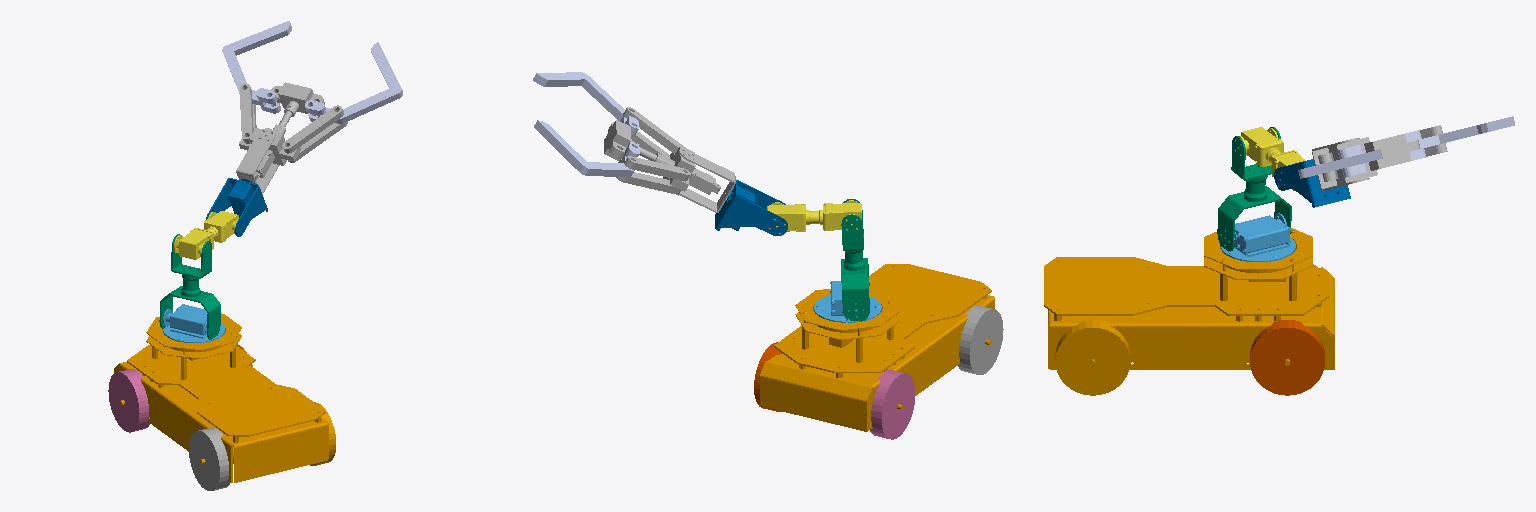
The robot description file, URDF, robot "robot_v2":
<?xml version="1.0"?>
<!-- URDF generated from models/robot_v2/model.sdf
     Notes:
     - Sensors and Gazebo plugins from the SDF are not represented in URDF (left as comments).
     - Mesh URIs kept as file://... as in the SDF.
-->
<robot name="robot_v2">

  <!-- base_link -->
  <link name="base_link">
    <inertial>
      <origin xyz="0 -0.15 0.01" rpy="0 0 0" />
      <mass value="3.1643396567672002" />
      <inertia ixx="0.01" ixy="0" ixz="0" iyy="0.005" iyz="0" izz="0.005" />
    </inertial>
    <visual>
      <origin xyz="0 0 0" rpy="0 0 0" />
      <geometry>
  <mesh filename="package://mam_eurobot_2026/models/robot_v2/meshes/base_link.STL" />
      </geometry>
    </visual>
    <collision>
      <origin xyz="0 0 0" rpy="0 0 0" />
      <geometry>
  <mesh filename="package://mam_eurobot_2026/models/robot_v2/meshes/base_link.STL" />
      </geometry>
    </collision>
  </link>

  <!-- link_1 -->
  <link name="link_1">
    <inertial>
      <origin xyz="0.00104293857582605 -0.0200716463587287 -0.000239310286706415" rpy="0 0 0" />
      <mass value="0.064021348009921195" />
      <inertia ixx="0.0002" ixy="0" ixz="0" iyy="0.0001" iyz="0" izz="0.0001" />
    </inertial>
    <visual>
      <origin xyz="0 0 0" rpy="0 0 0" />
      <geometry>
  <mesh filename="package://mam_eurobot_2026/models/robot_v2/meshes/link_1.STL" />
      </geometry>
    </visual>
    <collision>
      <origin xyz="0 0 0" rpy="0 0 0" />
      <geometry>
  <mesh filename="package://mam_eurobot_2026/models/robot_v2/meshes/link_1.STL" />
      </geometry>
    </collision>
  </link>

  <!-- link_2 -->
  <link name="link_2">
    <inertial>
      <origin xyz="-0.000603587791177973 -0.050271425729893 -0" rpy="0 0 0" />
      <mass value="0.19959080849265101" />
      <inertia ixx="0.001" ixy="0" ixz="0" iyy="0.0005" iyz="0" izz="0.0005" />
    </inertial>
    <visual>
      <origin xyz="0 0 0" rpy="0 0 0" />
      <geometry>
  <mesh filename="package://mam_eurobot_2026/models/robot_v2/meshes/link_2.STL" />
      </geometry>
    </visual>
    <collision>
      <origin xyz="0 0 0" rpy="0 0 0" />
      <geometry>
  <mesh filename="package://mam_eurobot_2026/models/robot_v2/meshes/link_2.STL" />
      </geometry>
    </collision>
  </link>

  <!-- link_3 -->
  <link name="link_3">
    <inertial>
      <origin xyz="-0.000682520892340457 0 -0.0438713507571973" rpy="0 0 0" />
      <mass value="0.115150609607431" />
      <inertia ixx="0.0005" ixy="0" ixz="0" iyy="0.0003" iyz="0" izz="0.0003" />
    </inertial>
    <visual>
      <origin xyz="0 0 0" rpy="0 0 0" />
      <geometry>
  <mesh filename="package://mam_eurobot_2026/models/robot_v2/meshes/link_3.STL" />
      </geometry>
    </visual>
    <collision>
      <origin xyz="0 0 0" rpy="0 0 0" />
      <geometry>
  <mesh filename="package://mam_eurobot_2026/models/robot_v2/meshes/link_3.STL" />
      </geometry>
    </collision>
  </link>

  <!-- link_4 -->
  <link name="link_4">
    <inertial>
      <origin xyz="-0.000603587790963866 0.0078169291051248 0.0420092089396764" rpy="0 0 0" />
      <mass value="0.11665330221327801" />
      <inertia ixx="0.0006" ixy="0" ixz="0" iyy="0.0004" iyz="0" izz="0.0004" />
    </inertial>
    <visual>
      <origin xyz="0 0 0" rpy="0 0 0" />
      <geometry>
  <mesh filename="package://mam_eurobot_2026/models/robot_v2/meshes/link_4.STL" />
      </geometry>
    </visual>
    <collision>
      <origin xyz="0 0 0" rpy="0 0 0" />
      <geometry>
  <mesh filename="package://mam_eurobot_2026/models/robot_v2/meshes/link_4.STL" />
      </geometry>
    </collision>
  </link>

  <!-- wheel links -->
  <link name="wheel_link_1">
    <inertial>
      <origin xyz="-0.000936230026474243 0.000294296502742687 -0.0253134741975136" rpy="0 0 0" />
      <mass value="0.13046603137643001" />
      <inertia ixx="0.00015" ixy="0" ixz="0" iyy="0.00015" iyz="0" izz="0.0003" />
    </inertial>
    <visual>
      <geometry>
        <cylinder radius="0.04" length="0.02" />
      </geometry>
    </visual>
    <collision>
      <geometry>
        <cylinder radius="0.04" length="0.02" />
      </geometry>
    </collision>
  </link>

  <link name="wheel_link_2">
    <inertial>
      <origin xyz="0.000978275320681482 0 -0.0253134741975717" rpy="0 0 0" />
      <mass value="0.13046603137681101" />
      <inertia ixx="0.00015" ixy="0" ixz="0" iyy="0.00015" iyz="0" izz="0.0003" />
    </inertial>
    <visual>
      <geometry>
        <cylinder radius="0.04" length="0.02" />
      </geometry>
    </visual>
    <collision>
      <geometry>
        <cylinder radius="0.04" length="0.02" />
      </geometry>
    </collision>
  </link>

  <link name="wheel_link_3">
    <inertial>
      <origin xyz="-0.000295654501900236 0.0009367782707207229 0.0253134741975857" rpy="0 0 0" />
      <mass value="0.13046603137693699" />
      <inertia ixx="0.00015" ixy="0" ixz="0" iyy="0.00015" iyz="0" izz="0.0003" />
    </inertial>
    <visual>
      <geometry>
        <cylinder radius="0.04" length="0.02" />
      </geometry>
    </visual>
    <collision>
      <geometry>
        <cylinder radius="0.04" length="0.02" />
      </geometry>
    </collision>
  </link>

  <link name="wheel_link_4">
    <inertial>
      <origin xyz="-0.000965094199165933 -0.00018075045527613 0.0253134741977022" rpy="0 0 0" />
      <mass value="0.13046603137788901" />
      <inertia ixx="0.00015" ixy="0" ixz="0" iyy="0.00015" iyz="0" izz="0.0003" />
    </inertial>
    <visual>
      <geometry>
        <cylinder radius="0.04" length="0.02" />
      </geometry>
    </visual>
    <collision>
      <geometry>
        <cylinder radius="0.04" length="0.02" />
      </geometry>
    </collision>
  </link>

  <!-- gripper placeholder link (included model in SDF) -->
  <!-- Begin gripper substructure (renamed for MoveIt/robot_state_publisher compatibility) -->
  <link name="gripper_base_link">
    <inertial>
      <origin xyz="1.20345416542393E-06 -7.46338198926353E-05 0.0402572142288835" rpy="0 0 0" />
      <mass value="0.118178990513371" />
      <inertia ixx="6.01287575012105E-05" ixy="1.85720765586351E-10" ixz="1.11828577359352E-09" iyy="7.70222497341493E-05" iyz="-8.26675381504617E-08" izz="4.67283990275469E-05" />
    </inertial>
    <visual>
      <origin xyz="0 0 0" rpy="0 0 0" />
      <geometry>
  <mesh filename="package://mam_eurobot_2026/models/gripper/meshes/base_link.STL" />
      </geometry>
      <material name="">
        <color rgba="0.752941176470588 0.752941176470588 0.752941176470588 1" />
      </material>
    </visual>
    <collision>
      <origin xyz="0 0 0" rpy="0 0 0" />
      <geometry>
  <mesh filename="package://mam_eurobot_2026/models/gripper/meshes/base_link.STL" />
      </geometry>
    </collision>
  </link>
  <link name="gripper_shaft_1_link">
    <inertial>
      <origin xyz="-0.0185483490157523 0.0354395083034431 2.99498299918544E-16" rpy="0 0 0" />
      <mass value="0.02252603418623" />
      <inertia ixx="1.12936526709408E-05" ixy="5.62463338808149E-06" ixz="-8.77212019586647E-22" iyy="3.49073863338112E-06" iyz="1.54353420695704E-21" izz="1.44455622067707E-05" />
    </inertial>
    <visual>
      <origin xyz="0 0 0" rpy="0 0 0" />
      <geometry>
  <mesh filename="package://mam_eurobot_2026/models/gripper/meshes/shaft_1_link.STL" />
      </geometry>
      <material name="">
        <color rgba="0.752941176470588 0.752941176470588 0.752941176470588 1" />
      </material>
    </visual>
    <collision>
      <origin xyz="0 0 0" rpy="0 0 0" />
      <geometry>
  <mesh filename="package://mam_eurobot_2026/models/gripper/meshes/shaft_1_link.STL" />
      </geometry>
    </collision>
  </link>
  <joint name="gripper_shaft_1_joint" type="revolute">
    <origin xyz="0 -0.03 0.061858" rpy="1.5708 -0.041167 1.5708" />
    <parent link="gripper_base_link" />
    <child link="gripper_shaft_1_link" />
    <axis xyz="0 0 1" />
    <limit lower="0" upper="0" effort="0" velocity="0" />
  </joint>
  <link name="gripper_shaft_2_link">
    <inertial>
      <origin xyz="0.0185483490157517 0.0354395083034417 2.92425178921861E-16" rpy="0 0 0" />
      <mass value="0.02252603418623" />
      <inertia ixx="1.12936526709407E-05" ixy="-5.62463338808151E-06" ixz="-4.80175514429532E-22" iyy="3.49073863338117E-06" iyz="-1.06899453632766E-21" izz="1.44455622067707E-05" />
    </inertial>
    <visual>
      <origin xyz="0 0 0" rpy="0 0 0" />
      <geometry>
  <mesh filename="package://mam_eurobot_2026/models/gripper/meshes/shaft_2_link.STL" />
      </geometry>
      <material name="">
        <color rgba="0.752941176470588 0.752941176470588 0.752941176470588 1" />
      </material>
    </visual>
    <collision>
      <origin xyz="0 0 0" rpy="0 0 0" />
      <geometry>
  <mesh filename="package://mam_eurobot_2026/models/gripper/meshes/shaft_2_link.STL" />
      </geometry>
    </collision>
  </link>
  <joint name="gripper_shaft_2_joint" type="revolute">
    <origin xyz="0 0.03 0.061858" rpy="1.5708 0.041167 1.5708" />
    <parent link="gripper_base_link" />
    <child link="gripper_shaft_2_link" />
    <axis xyz="0 0 1" />
    <limit lower="0" upper="0" effort="0" velocity="0" />
  </joint>
  <link name="gripper_actuactor_link">
    <inertial>
      <origin xyz="1.85604995391415E-08 0.0293282231493077 -3.84649389623577E-11" rpy="0 0 0" />
      <mass value="0.0512156078297464" />
      <inertia ixx="6.40991174505963E-06" ixy="-1.81917662188716E-11" ixz="8.72990322207868E-14" iyy="9.65773691375466E-06" iyz="-3.89986107585078E-13" izz="1.21277508668611E-05" />
    </inertial>
    <visual>
      <origin xyz="0 0 0" rpy="0 0 0" />
      <geometry>
  <mesh filename="package://mam_eurobot_2026/models/gripper/meshes/actuactor_link.STL" />
      </geometry>
      <material name="">
        <color rgba="0.752941176470588 0.752941176470588 0.752941176470588 1" />
      </material>
    </visual>
    <collision>
      <origin xyz="0 0 0" rpy="0 0 0" />
      <geometry>
  <mesh filename="package://mam_eurobot_2026/models/gripper/meshes/actuactor_link.STL" />
      </geometry>
    </collision>
  </link>
  <joint name="gripper_actuactor_joint" type="fixed">
    <origin xyz="0 0 0.084786" rpy="1.5708 0 -1.5708" />
    <parent link="gripper_base_link" />
    <child link="gripper_actuactor_link" />
  </joint>
  <link name="gripper_arm_1_link">
    <inertial>
      <origin xyz="0.0521330633718729 -0.0399533991816216 0.005" rpy="0 0 0" />
      <mass value="0.0329177629039053" />
      <inertia ixx="5.16014760985873E-05" ixy="2.06515660036376E-05" ixz="8.54318905572456E-22" iyy="2.93271923454908E-05" iyz="-7.92111556290631E-22" izz="7.91570014890072E-05" />
    </inertial>
    <visual>
      <origin xyz="0 0 0" rpy="0 0 0" />
      <geometry>
  <mesh filename="package://mam_eurobot_2026/models/gripper/meshes/arm_1_link.STL" />
      </geometry>
      <material name="">
        <color rgba="0.792156862745098 0.819607843137255 0.933333333333333 1" />
      </material>
    </visual>
    <collision>
      <origin xyz="0 0 0" rpy="0 0 0" />
      <geometry>
  <mesh filename="package://mam_eurobot_2026/models/gripper/meshes/arm_1_link.STL" />
      </geometry>
    </collision>
  </link>
  <joint name="gripper_arm_1_joint" type="revolute">
    <origin xyz="0.028953 0.046145 0.005" rpy="-3.1416 0 0.029755" />
    <parent link="gripper_actuactor_link" />
    <child link="gripper_arm_1_link" />
    <axis xyz="0 0 1" />
    <!-- Updated limits and dynamics from model.sdf -->
    <limit lower="-3.1415" upper="3.1415" effort="100" velocity="5" />
    <dynamics damping="0.1" friction="0.01" />
  </joint>
  <link name="gripper_arm_2_link">
    <inertial>
      <origin xyz="0.0521330633718464 -0.0399533991816367 0.005" rpy="0 0 0" />
      <mass value="0.0329177629039053" />
      <inertia ixx="5.16014760985873E-05" ixy="2.06515660036377E-05" ixz="-2.08366170933793E-21" iyy="2.93271923454908E-05" iyz="5.8724305266389E-21" izz="7.91570014890072E-05" />
    </inertial>
    <visual>
      <origin xyz="0 0 0" rpy="0 0 0" />
      <geometry>
  <mesh filename="package://mam_eurobot_2026/models/gripper/meshes/arm_2_link.STL" />
      </geometry>
      <material name="">
        <color rgba="0.792156862745098 0.819607843137255 0.933333333333333 1" />
      </material>
    </visual>
    <collision>
      <origin xyz="0 0 0" rpy="0 0 0" />
      <geometry>
  <mesh filename="package://mam_eurobot_2026/models/gripper/meshes/arm_2_link.STL" />
      </geometry>
    </collision>
  </link>
  <joint name="gripper_arm_2_joint" type="revolute">
    <origin xyz="-0.028953 0.046145 -0.005" rpy="0 0 3.1118" />
    <parent link="gripper_actuactor_link" />
    <child link="gripper_arm_2_link" />
    <axis xyz="0 0 1" />
    <!-- Updated limits and dynamics from model.sdf; mimic removed so this joint is independent -->
    <limit lower="-3.1415" upper="3.1415" effort="100" velocity="5" />
    <dynamics damping="0.1" friction="0.01" />
  </joint>
  <!-- End gripper substructure -->

  <!-- joints -->
  <joint name="joint_1" type="revolute">
    <origin xyz="0 -0.081313 0.08128" rpy="-1.5708 0 2.1036" />
    <parent link="base_link" />
    <child link="link_1" />
    <axis xyz="0 1 0" />
    <limit lower="-3.1415" upper="3.1415" effort="100" velocity="5.0" />
    <dynamics damping="0.1" friction="0.01" />
  </joint>

  <joint name="joint_2" type="revolute">
    <origin xyz="0 -0.024358 0.009871" rpy="3.093 0 3.141585307179587" />
    <parent link="link_1" />
    <child link="link_2" />
    <axis xyz="1 0 0" />
    <limit lower="-3.1415" upper="3.1415" effort="100" velocity="5.0" />
    <dynamics damping="0.1" friction="0.01" />
  </joint>

  <joint name="joint_3" type="revolute">
    <origin xyz="0 -0.10532 0" rpy="-3.1187 0 0" />
    <parent link="link_2" />
    <child link="link_3" />
    <axis xyz="1 0 0" />
    <limit lower="-3.1415" upper="3.1415" effort="100" velocity="5.0" />
    <dynamics damping="0.1" friction="0.01" />
  </joint>

  <joint name="joint_4" type="revolute">
    <origin xyz="0 0 -0.087743" rpy="-2.6186 0 0" />
    <parent link="link_3" />
    <child link="link_4" />
    <axis xyz="1 0 0" />
    <limit lower="-3.1415" upper="3.1415" effort="100" velocity="5.0" />
    <dynamics damping="0.1" friction="0.01" />
  </joint>

  <!-- joint_5 connects to gripper include in SDF -->
  <joint name="joint_5" type="revolute">
    <origin xyz="0 0 0.069" rpy="0 0 1.571" />
    <parent link="link_4" />
    <child link="gripper_base_link" />
    <axis xyz="0 0 1" />
    <limit lower="-3.1415" upper="3.1415" effort="100" velocity="5.0" />
    <dynamics damping="0.1" friction="0.01" />
  </joint>

  <!-- wheel joints -->
  <joint name="wheel_joint_1" type="revolute">
    <origin xyz="0.0765 -0.0505 -0.0032237" rpy="1.5708 -1.179 -1.5708" />
    <parent link="base_link" />
    <child link="wheel_link_1" />
    <axis xyz="0 0 1" />
    <limit lower="-1.79769e+308" upper="1.79769e+308" effort="100" velocity="5.0" />
  </joint>

  <joint name="wheel_joint_2" type="revolute">
    <origin xyz="-0.0765 -0.0505 -0.0032237" rpy="1.5708 1.179 1.5708" />
    <parent link="base_link" />
    <child link="wheel_link_2" />
    <axis xyz="0 0 1" />
    <limit lower="-1.79769e+308" upper="1.79769e+308" effort="100" velocity="5.0" />
  </joint>

  <joint name="wheel_joint_3" type="revolute">
    <origin xyz="-0.0765 -0.25731 -0.0032237" rpy="1.5708 -1.179 -1.5708" />
    <parent link="base_link" />
    <child link="wheel_link_3" />
    <axis xyz="0 0 1" />
    <limit lower="-1.79769e+308" upper="1.79769e+308" effort="100" velocity="5.0" />
  </joint>

  <joint name="wheel_joint_4" type="revolute">
    <origin xyz="0.0765 -0.25731 -0.0032237" rpy="1.5708 1.179 1.5708" />
    <parent link="base_link" />
    <child link="wheel_link_4" />
    <axis xyz="0 0 1" />
    <limit lower="-1.79769e+308" upper="1.79769e+308" effort="100" velocity="5.0" />
  </joint>

  <!-- Note: SDF-only sensors and plugins omitted. If you need Gazebo/ignition plugins, keep them in a companion SDF file. -->

</robot>

--- What the picture shows (computed from the rendered views, not written in the file) ---
Views: 3 orthographic renders of the robot side by side, from view 1: azimuth 30°, elevation 25°; view 2: azimuth 150°, elevation 25°; view 3: azimuth 270°, elevation 25°.
Robot: robot_v2 — 15 links, 14 joints (13 revolute, 1 fixed); root link base_link; default pose: all joints at 0.
Links seen in each view (by area): view 1: base_link, gripper_base_link, link_2, wheel_link_2, wheel_link_3, gripper_arm_2_link, link_4, gripper_arm_1_link, link_3, link_1, gripper_shaft_1_link, gripper_actuactor_link (+1 smaller); view 2: base_link, link_2, wheel_link_2, wheel_link_3, link_4, gripper_base_link, link_3, gripper_arm_2_link, gripper_arm_1_link, gripper_shaft_2_link, link_1, gripper_shaft_1_link (+1 smaller); view 3: base_link, wheel_link_4, wheel_link_1, link_2, link_1, link_4, link_3, gripper_arm_1_link, gripper_arm_2_link, gripper_actuactor_link, gripper_base_link.
Boxes of the visible links, x1=… form: base_link: x1=114, y1=313, x2=328, y2=482; gripper_base_link: x1=236, y1=124, x2=300, y2=194; link_2: x1=159, y1=234, x2=220, y2=339; wheel_link_2: x1=108, y1=369, x2=149, y2=432; wheel_link_3: x1=189, y1=428, x2=230, y2=490; gripper_arm_2_link: x1=222, y1=21, x2=291, y2=113; link_4: x1=206, y1=178, x2=267, y2=236; gripper_arm_1_link: x1=305, y1=42, x2=402, y2=123; link_3: x1=174, y1=211, x2=238, y2=259; link_1: x1=163, y1=304, x2=224, y2=342; gripper_shaft_1_link: x1=282, y1=105, x2=347, y2=162; gripper_actuactor_link: x1=271, y1=82, x2=324, y2=126; base_link: x1=760, y1=264, x2=994, y2=431; link_2: x1=841, y1=199, x2=869, y2=321; wheel_link_2: x1=870, y1=370, x2=914, y2=439; wheel_link_3: x1=958, y1=305, x2=1003, y2=374; link_4: x1=715, y1=180, x2=787, y2=235; gripper_base_link: x1=654, y1=146, x2=735, y2=212; link_3: x1=767, y1=200, x2=861, y2=233; gripper_arm_2_link: x1=534, y1=120, x2=639, y2=176; gripper_arm_1_link: x1=533, y1=72, x2=639, y2=135; gripper_shaft_2_link: x1=616, y1=156, x2=690, y2=194; link_1: x1=814, y1=281, x2=881, y2=322; gripper_shaft_1_link: x1=623, y1=107, x2=685, y2=158; base_link: x1=1044, y1=223, x2=1334, y2=369; wheel_link_4: x1=1055, y1=320, x2=1130, y2=395; wheel_link_1: x1=1250, y1=320, x2=1324, y2=395; link_2: x1=1217, y1=127, x2=1291, y2=251; link_1: x1=1221, y1=213, x2=1295, y2=261; link_4: x1=1274, y1=159, x2=1350, y2=207; link_3: x1=1240, y1=127, x2=1305, y2=190; gripper_arm_1_link: x1=1298, y1=145, x2=1382, y2=178; gripper_arm_2_link: x1=1405, y1=116, x2=1514, y2=160; gripper_actuactor_link: x1=1364, y1=134, x2=1420, y2=170; gripper_base_link: x1=1312, y1=137, x2=1377, y2=190.
Bounding box of the posed robot: 0.4435 × 0.5005 × 0.4107 m (x, y, z).
11 mesh visuals loaded from 11 distinct referenced files (11 binary STL).
